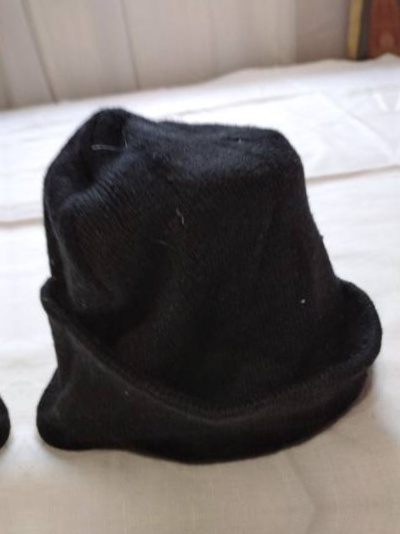Hat: (29, 73, 398, 483)
